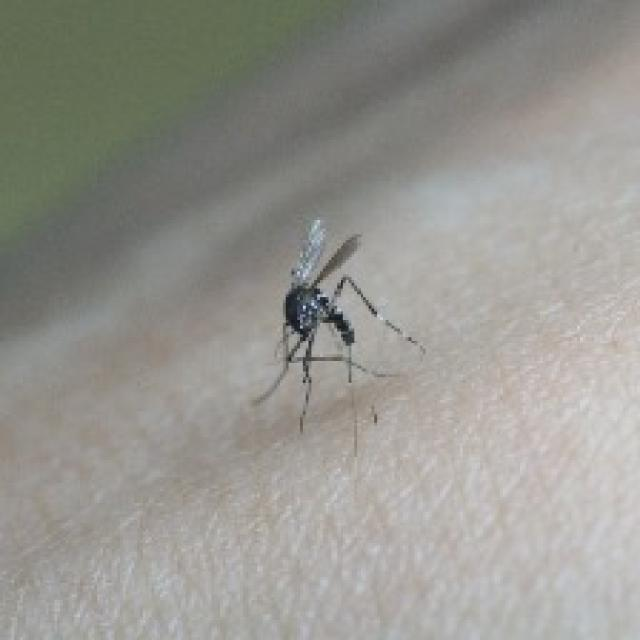aedes: (248, 214, 426, 443)
